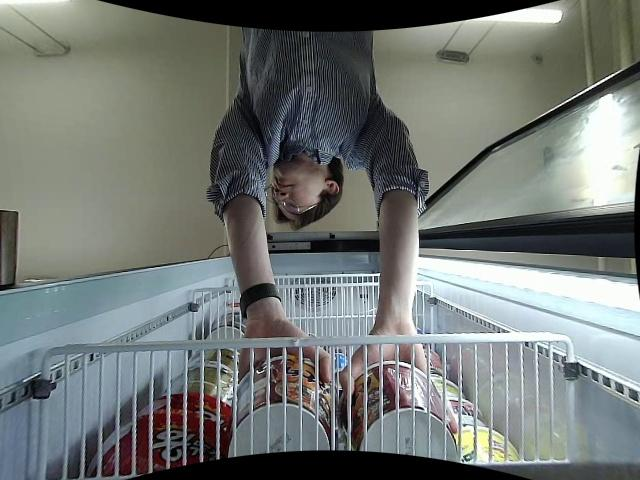00_hand: (339, 329, 427, 401), (237, 319, 329, 386)
05_nuguri_L: (342, 354, 462, 468), (226, 352, 333, 462)
